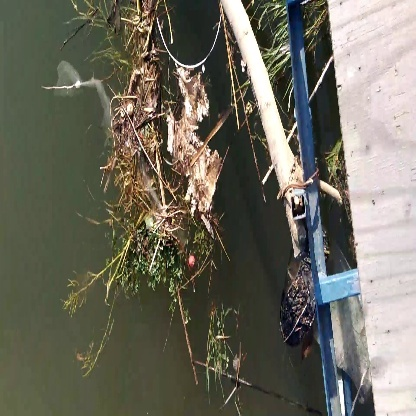grass: (112, 231, 186, 292)
